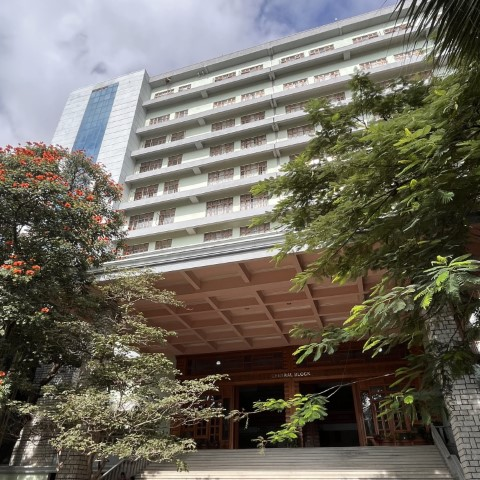Central Block: (62, 33, 429, 480)
